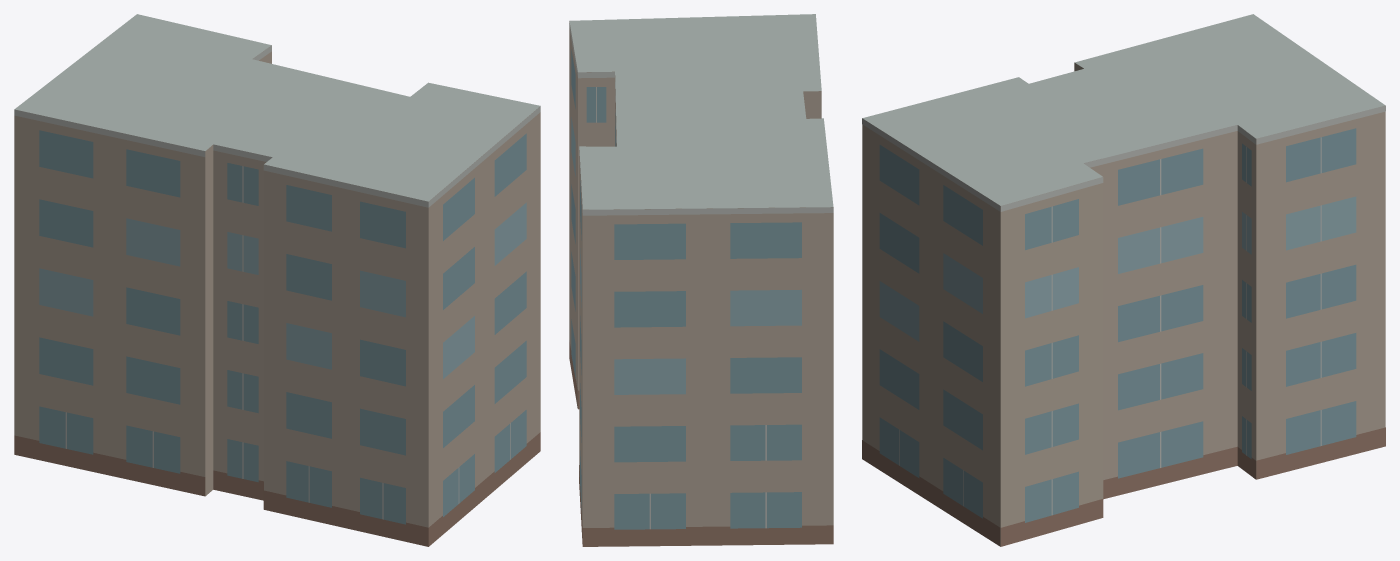
File: survey-upis-32768788.glb
3 views of the same model, side by side, from view 1: azimuth 30°, elevation 25°; view 2: azimuth 150°, elevation 25°; view 3: azimuth 270°, elevation 25° (orthographic). The views are drawn at different scales.
Visible parts, largest first — view 1: survey-upis-32768788.tmp; view 2: survey-upis-32768788.tmp; view 3: survey-upis-32768788.tmp.
Part boxes in pixels (box(x1,y1,x2,y2)): survey-upis-32768788.tmp: box(14, 14, 540, 546); survey-upis-32768788.tmp: box(569, 14, 833, 546); survey-upis-32768788.tmp: box(862, 14, 1385, 546).
Size of the model in its own units: 16.68 by 13.8 by 19.22.
